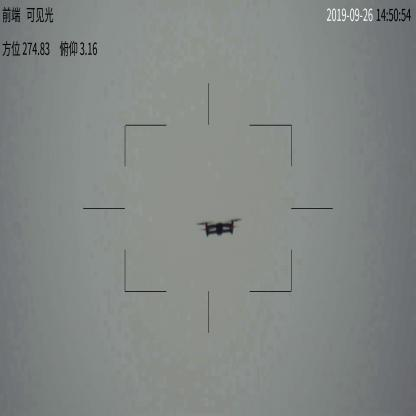uav: (196, 216, 240, 239)
